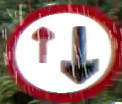Two way: (6, 3, 121, 103)
